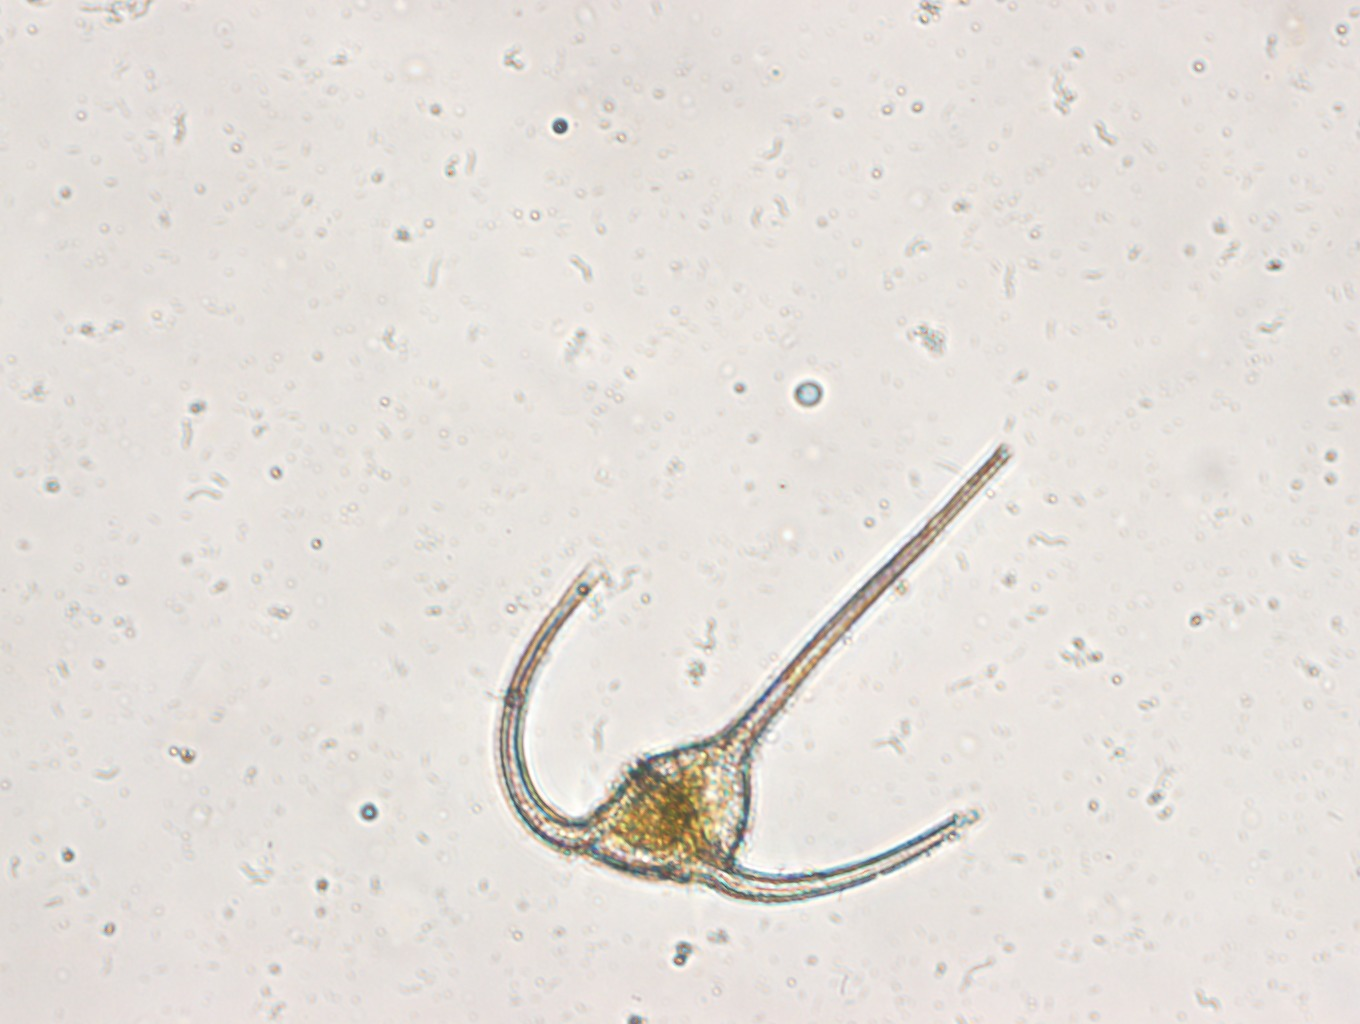ceratium trichoceros: (489, 436, 1019, 909)
